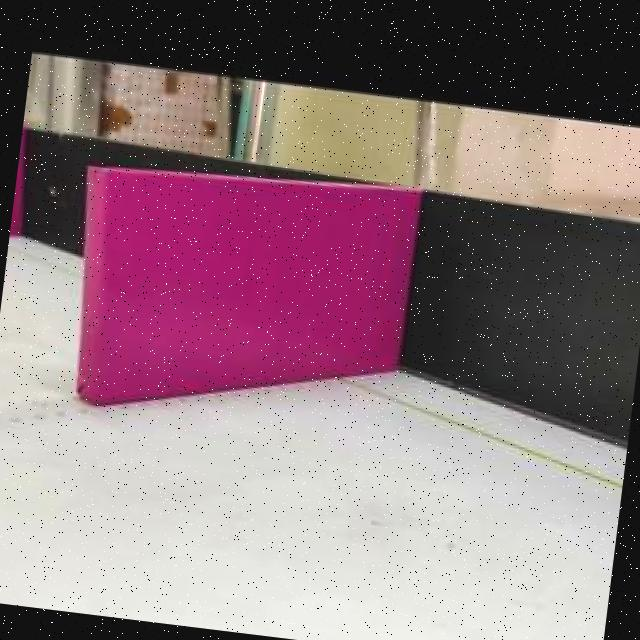xparking: (81, 171, 412, 436)
